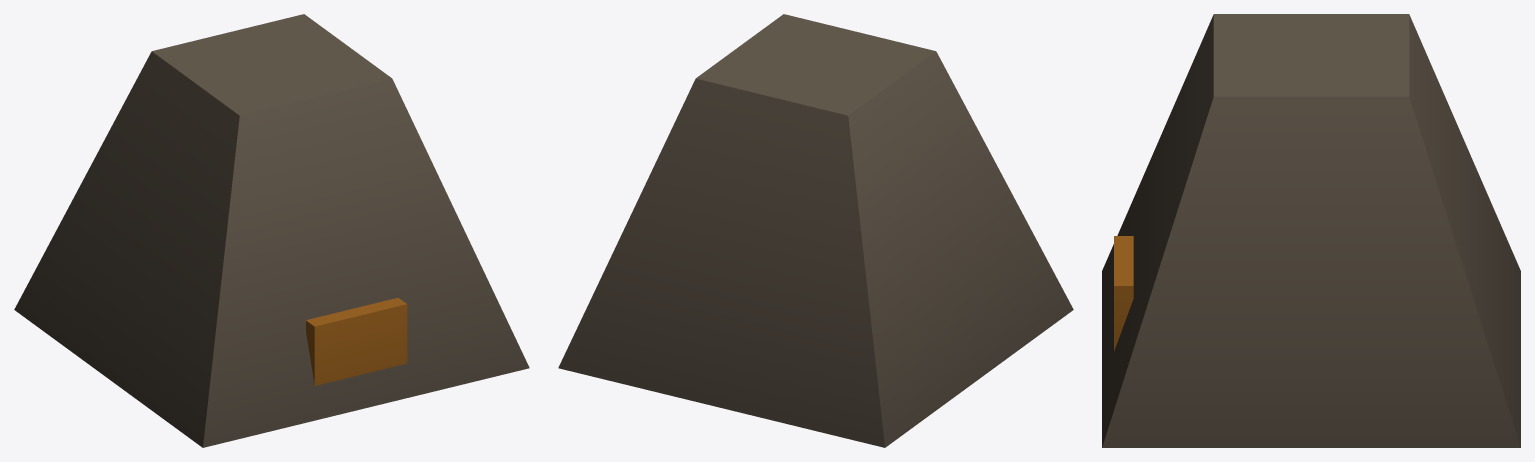
The model's file is stone-furnace.glb.
3 views of the same model, side by side, from view 1: azimuth 30°, elevation 25°; view 2: azimuth 150°, elevation 25°; view 3: azimuth 270°, elevation 25° (orthographic). The views are drawn at different scales.
Parts seen in each view (by area): view 1: stone-furnace; view 2: stone-furnace; view 3: stone-furnace.
Part boxes in pixels (x1,y1,x2,y2): stone-furnace: (14,14,529,447); stone-furnace: (558,14,1073,447); stone-furnace: (1102,14,1520,447).
Bounding box in the file's own units: 0.2121 × 0.17 × 0.2121.
